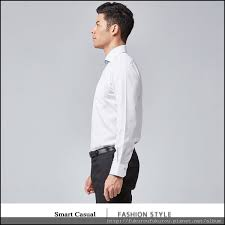F_belt: (87, 144, 117, 157)
F_shirt: (89, 46, 141, 178)
